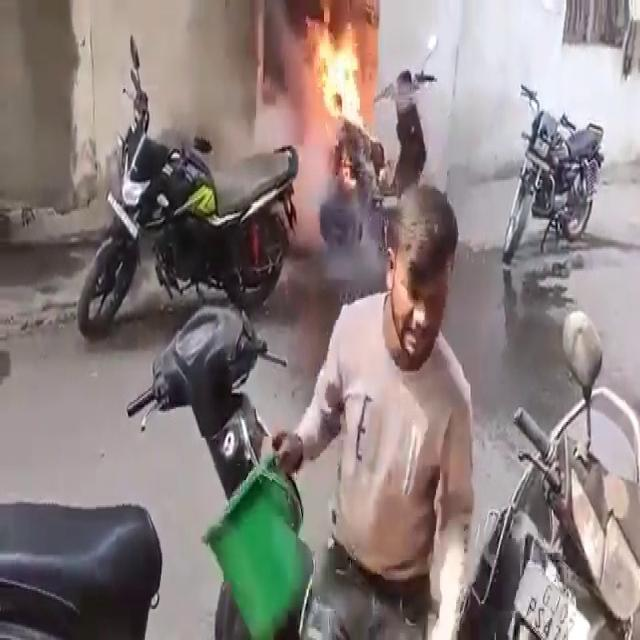Fire: (303, 1, 373, 164)
